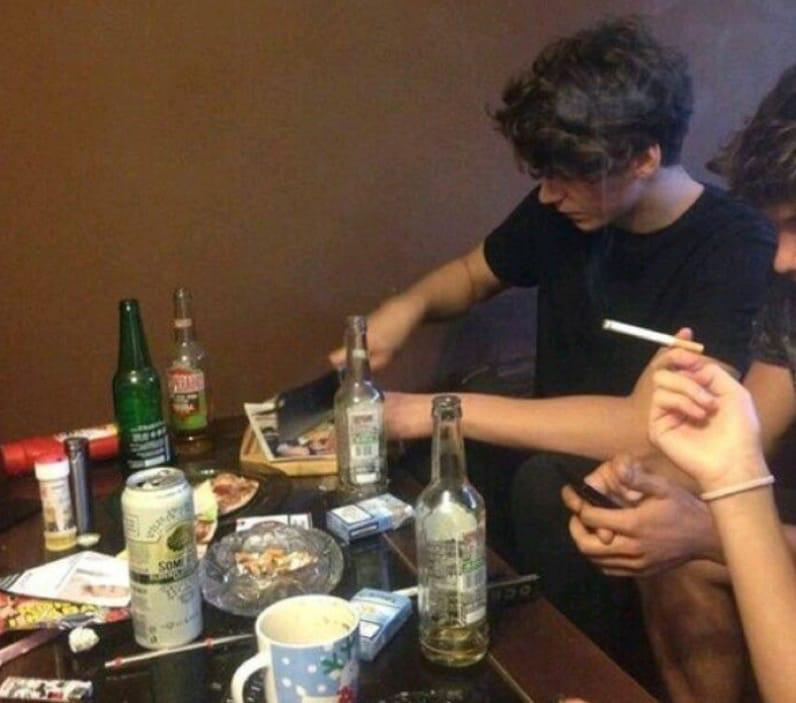cigarette: (602, 319, 703, 352)
